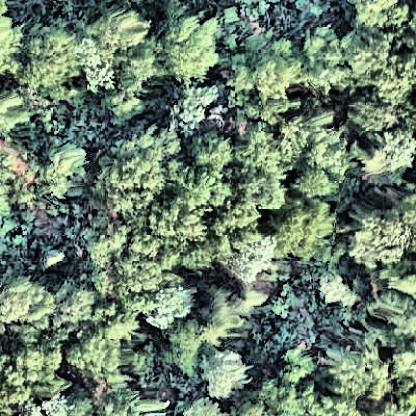tree-top: (25, 9, 134, 105), (78, 1, 160, 117), (95, 126, 177, 207), (91, 224, 172, 298), (17, 19, 86, 98), (154, 9, 225, 84), (346, 201, 411, 272), (273, 197, 341, 262), (235, 39, 299, 106), (2, 343, 66, 410), (321, 346, 395, 403), (3, 3, 53, 86), (34, 139, 93, 208), (256, 352, 322, 410), (343, 25, 404, 87), (61, 319, 124, 379), (240, 371, 320, 416), (196, 343, 254, 405), (153, 192, 215, 250), (296, 25, 355, 84), (143, 275, 201, 333), (357, 128, 416, 184), (238, 125, 297, 181), (367, 277, 416, 339), (223, 235, 283, 284), (160, 317, 209, 376), (160, 81, 215, 132), (198, 286, 252, 336), (1, 269, 51, 322), (345, 89, 400, 136), (187, 129, 239, 177), (1, 101, 44, 157), (100, 389, 174, 416), (316, 269, 362, 311), (292, 163, 339, 204), (2, 1, 26, 80), (346, 1, 411, 30), (391, 340, 416, 411), (275, 346, 321, 384), (55, 281, 99, 314), (62, 386, 103, 416), (395, 188, 416, 246), (174, 395, 227, 416), (39, 245, 67, 270)
